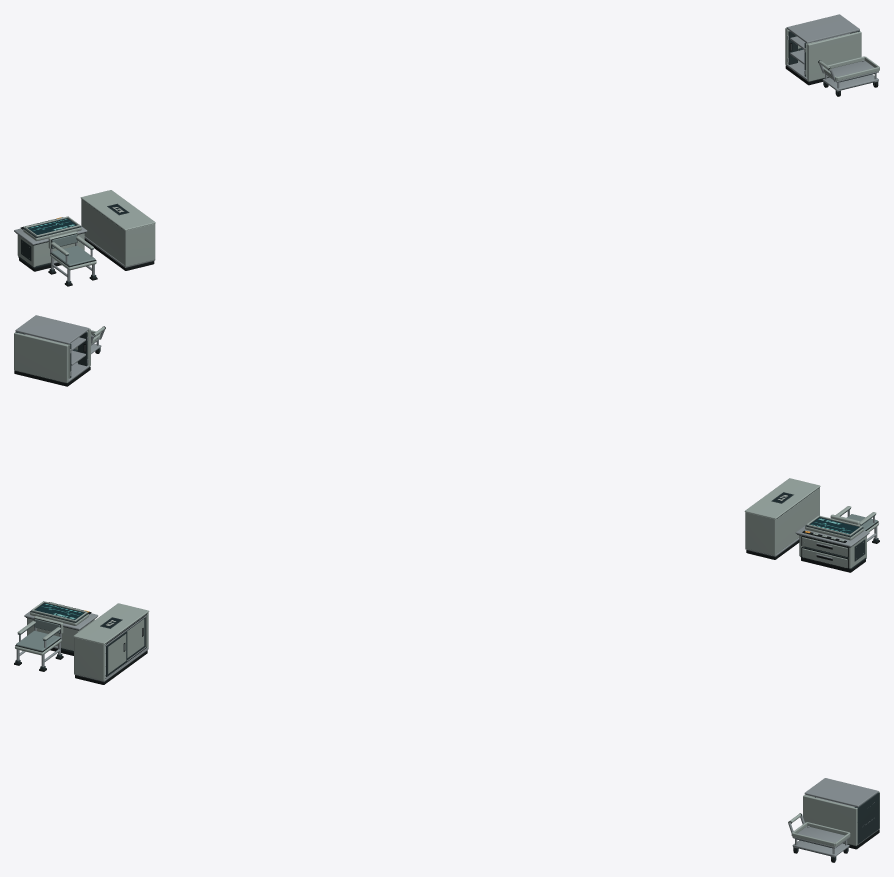
Rendered from room-kit.glb.
The picture shows the model from 3 angles, top to bottom: view 1: azimuth 30°, elevation 25°; view 2: azimuth 150°, elevation 25°; view 3: azimuth 330°, elevation 25°; orthographic projection.
Parts seen in each view (by area): view 1: locker 01 warm ceramic enamel, satellite-cabinet 01 warm ceramic enamel, satellite-cabinet 03 satin stainless, Batch 01 warm ceramic enamel, trolley 03 satin stainless, Batch Washable recovery upholstery, trolley 01 warm ceramic enamel; view 2: locker 01 warm ceramic enamel, satellite-cabinet 01 warm ceramic enamel, Batch 01 warm ceramic enamel, satellite-cabinet 03 satin stainless, Batch 04 EPDM gasket, Batch 03 satin stainless; view 3: locker 01 warm ceramic enamel, satellite-cabinet 01 warm ceramic enamel, Batch 01 warm ceramic enamel, satellite-cabinet 03 satin stainless, trolley 03 satin stainless, satellite-cabinet 02 graphite powdercoat, Batch Washable recovery upholstery, trolley 01 warm ceramic enamel, Batch 03 satin stainless.
Boxes of the visible parts, left/top/right/bottom form: locker 01 warm ceramic enamel: left=80, top=190, right=155, bottom=266; satellite-cabinet 01 warm ceramic enamel: left=785, top=27, right=861, bottom=81; satellite-cabinet 03 satin stainless: left=786, top=14, right=859, bottom=80; Batch 01 warm ceramic enamel: left=17, top=216, right=96, bottom=270; trolley 03 satin stainless: left=819, top=60, right=878, bottom=91; Batch Washable recovery upholstery: left=51, top=234, right=95, bottom=266; trolley 01 warm ceramic enamel: left=818, top=56, right=879, bottom=80; locker 01 warm ceramic enamel: left=744, top=478, right=820, bottom=555; satellite-cabinet 01 warm ceramic enamel: left=14, top=328, right=90, bottom=382; Batch 01 warm ceramic enamel: left=799, top=506, right=878, bottom=568; satellite-cabinet 03 satin stainless: left=15, top=315, right=89, bottom=381; Batch 04 EPDM gasket: left=797, top=517, right=879, bottom=572; Batch 03 satin stainless: left=795, top=510, right=877, bottom=563; locker 01 warm ceramic enamel: left=73, top=603, right=149, bottom=680; satellite-cabinet 01 warm ceramic enamel: left=803, top=791, right=879, bottom=845; Batch 01 warm ceramic enamel: left=15, top=601, right=94, bottom=655; satellite-cabinet 03 satin stainless: left=804, top=778, right=878, bottom=844; trolley 03 satin stainless: left=788, top=815, right=849, bottom=860; satellite-cabinet 02 graphite powdercoat: left=815, top=792, right=879, bottom=844; Batch Washable recovery upholstery: left=16, top=619, right=60, bottom=651; trolley 01 warm ceramic enamel: left=788, top=813, right=850, bottom=846; Batch 03 satin stainless: left=16, top=601, right=98, bottom=666.
Bounding box in the file's own units: 29.13 × 1.44 × 2.8.
Materials: 21 (18 with a texture image).
